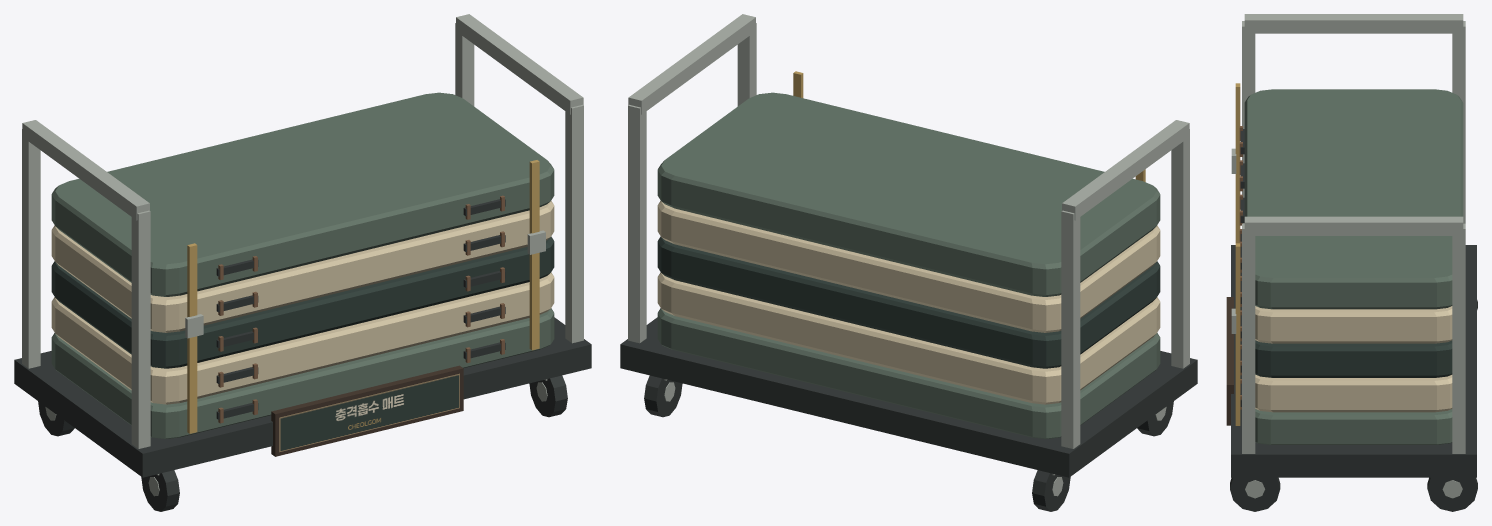
The model's file is 10_Crash_Mat_Trolley.fbx.
3 renders of one model, left to right at view 1: azimuth 30°, elevation 25°; view 2: azimuth 150°, elevation 25°; view 3: azimuth 270°, elevation 25°, orthographic. The views are drawn at different scales.
Parts seen in each view (by area): view 1: Mat_5, Structure.009, Mat_2, Mat_3, Mat_4, Mat_1; view 2: Mat_5, Structure.009, Mat_2, Mat_4, Mat_3, Mat_1; view 3: Mat_5, Structure.009, Mat_4, Mat_3, Mat_2, Mat_1.
Boxes of the visible parts, x1=… form: Mat_5: x1=51, y1=92, x2=554, y2=296; Structure.009: x1=14, y1=14, x2=591, y2=511; Mat_2: x1=51, y1=272, x2=554, y2=404; Mat_3: x1=51, y1=236, x2=554, y2=368; Mat_4: x1=51, y1=200, x2=554, y2=332; Mat_1: x1=51, y1=308, x2=554, y2=438; Mat_5: x1=657, y1=92, x2=1160, y2=296; Structure.009: x1=620, y1=14, x2=1197, y2=511; Mat_2: x1=657, y1=272, x2=1160, y2=404; Mat_4: x1=657, y1=200, x2=1160, y2=332; Mat_3: x1=657, y1=236, x2=1160, y2=368; Mat_1: x1=657, y1=308, x2=1160, y2=438; Mat_5: x1=1239, y1=89, x2=1463, y2=309; Structure.009: x1=1226, y1=14, x2=1477, y2=511; Mat_4: x1=1239, y1=160, x2=1452, y2=343; Mat_3: x1=1239, y1=194, x2=1452, y2=377; Mat_2: x1=1239, y1=229, x2=1452, y2=412; Mat_1: x1=1240, y1=272, x2=1452, y2=444.
Bounding box in the file's own units: 236 × 157 × 120.
Materials: 2 (2 with a texture image).
